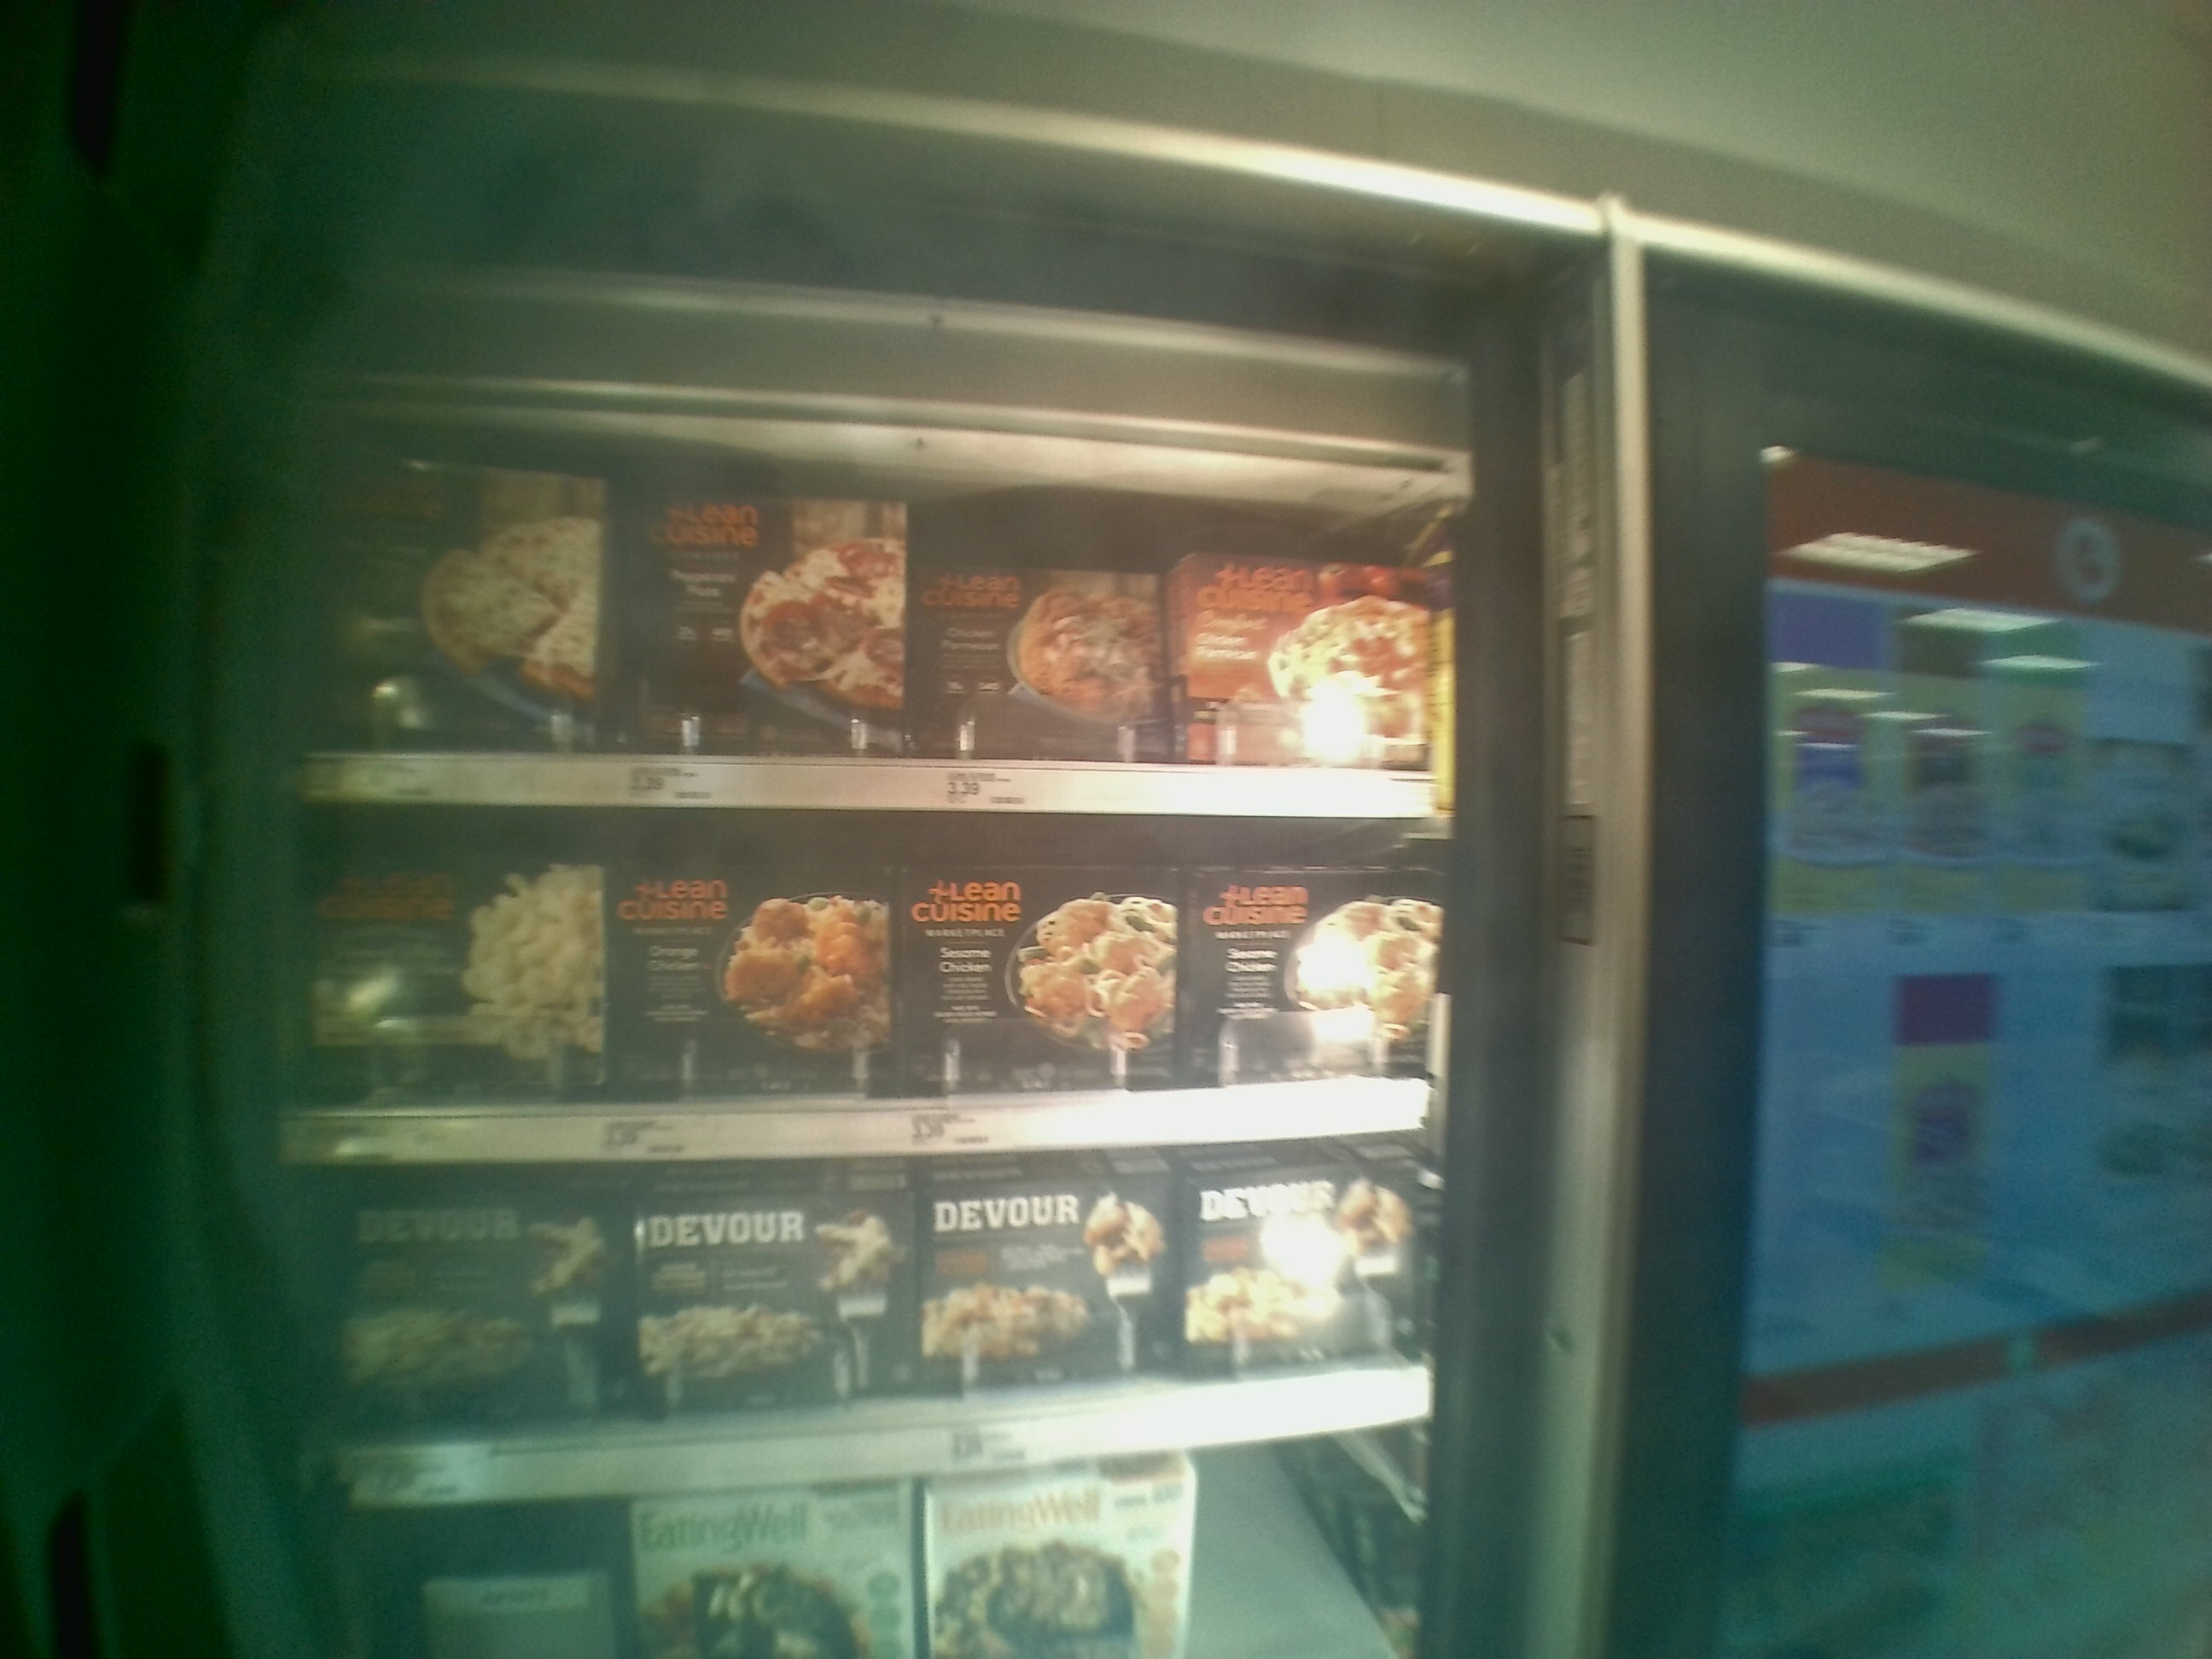shelf: (298, 436, 1460, 807), (296, 1148, 1435, 1514), (296, 803, 1446, 1155)
